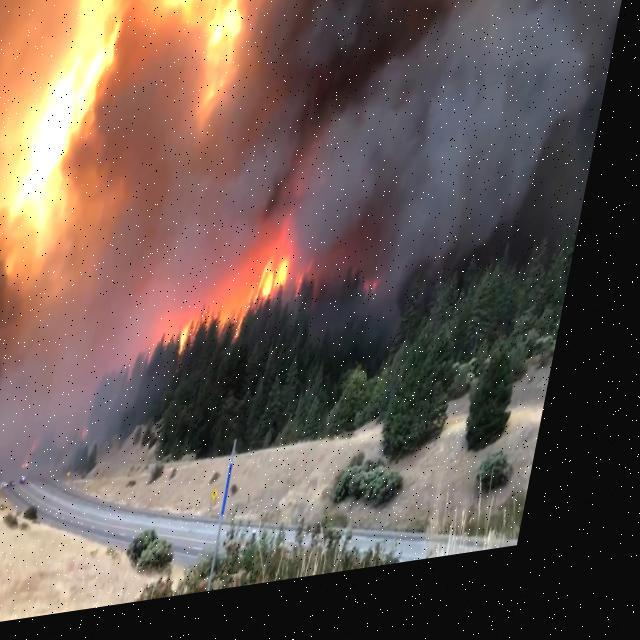Fire: (0, 0, 264, 280), (190, 258, 330, 354)
